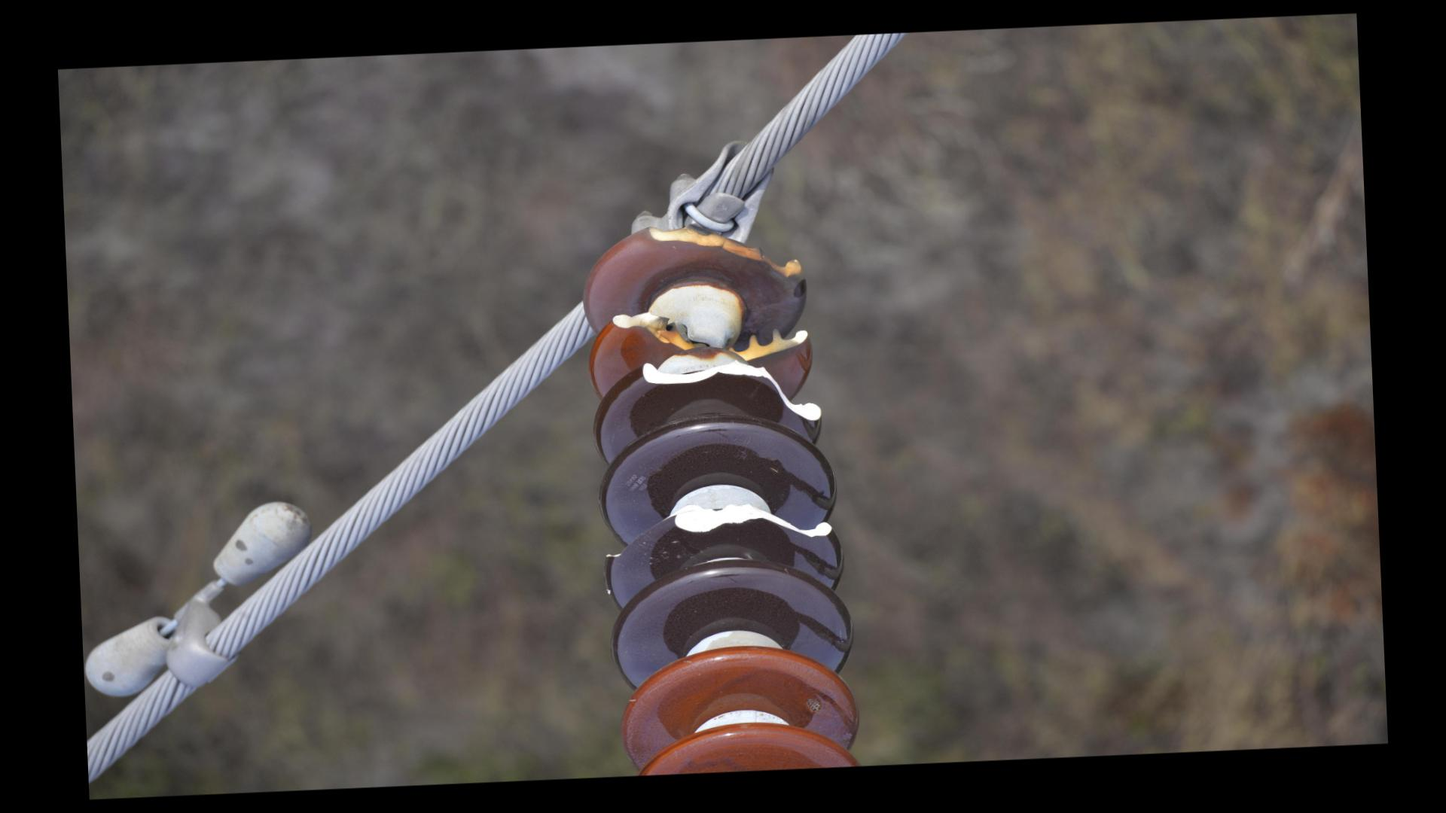damper: (77, 491, 325, 705)
